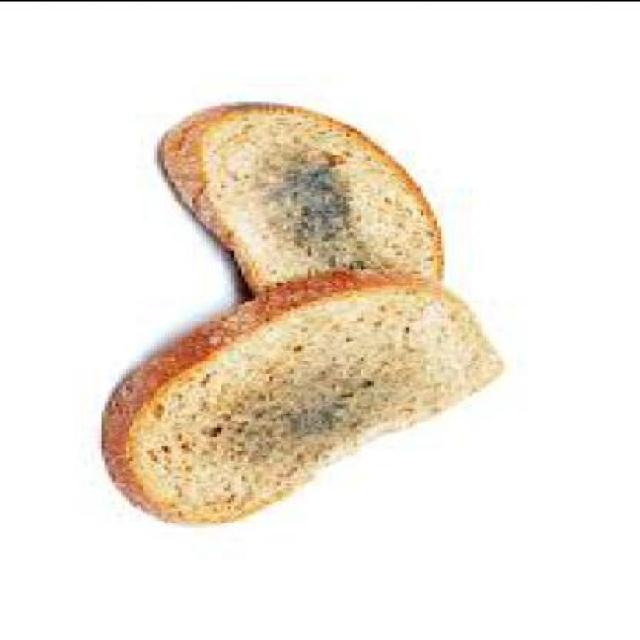BIODEGRADABLE: (102, 272, 501, 522), (159, 105, 444, 293)
